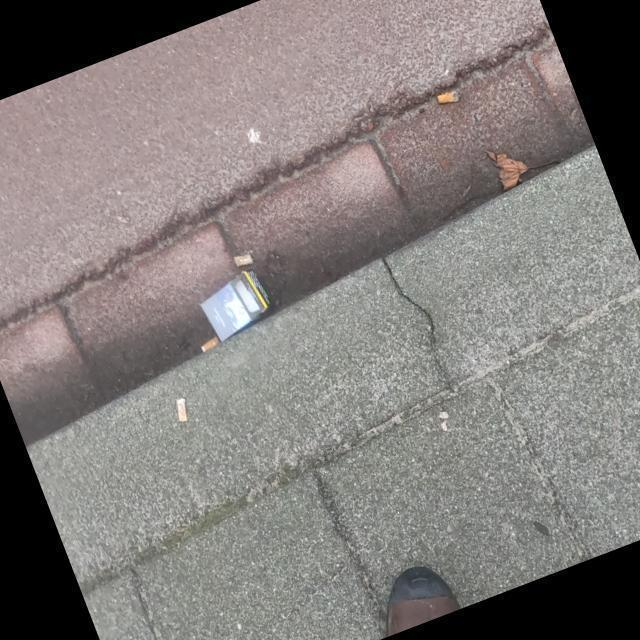Paper: (196, 264, 272, 346)
